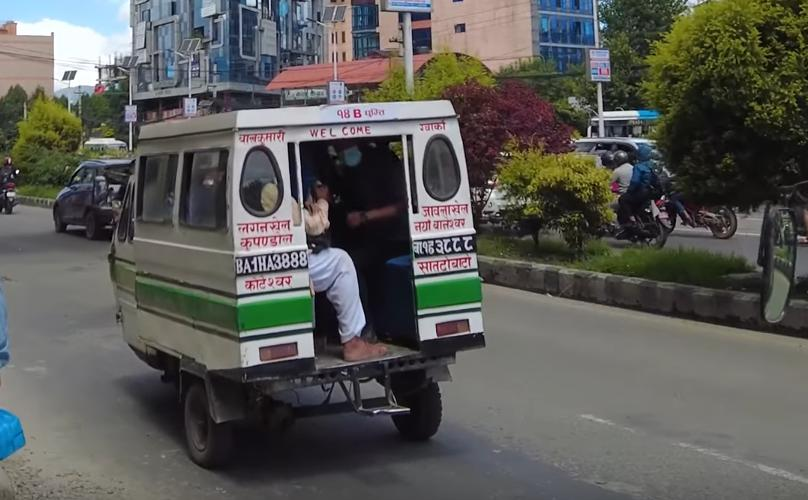car: (49, 156, 142, 238)
tempo: (104, 96, 498, 471)
